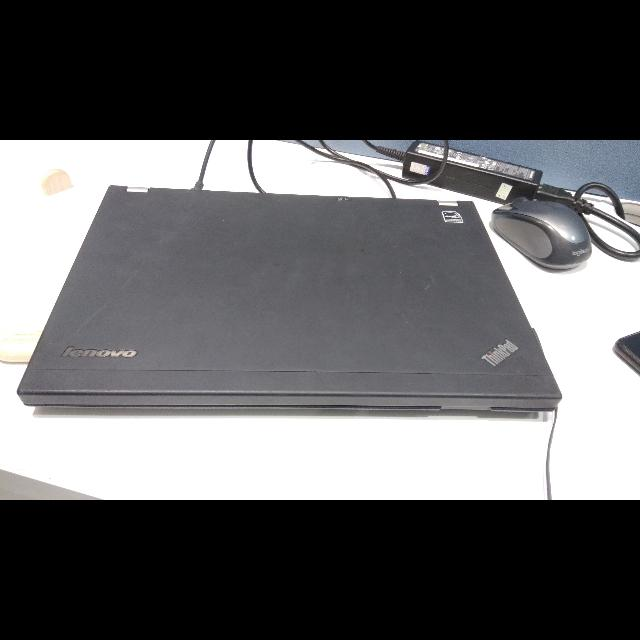Laptop: (14, 178, 566, 430)
